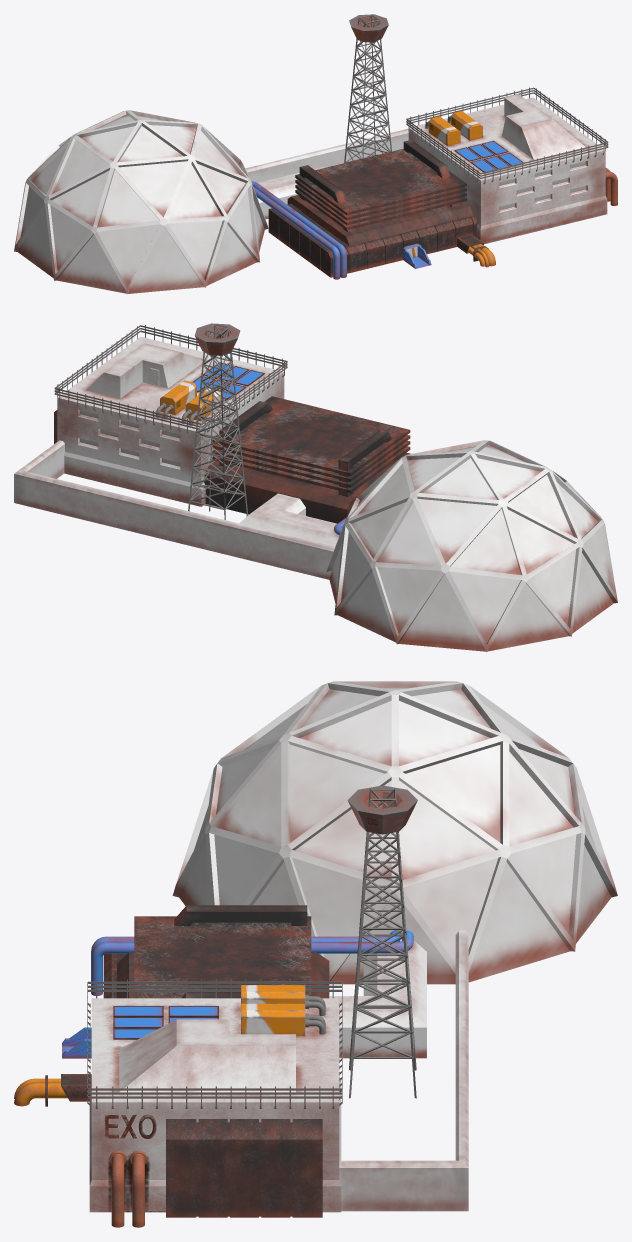
File: struct_HUB.obj
3 views of the same model, one above another, from view 1: azimuth 30°, elevation 25°; view 2: azimuth 150°, elevation 25°; view 3: azimuth 270°, elevation 25° (orthographic). The views are drawn at different scales.
Visible parts, largest first — view 1: HUB; view 2: HUB; view 3: HUB.
Part boxes in pixels (x1,y1,x2,y2): HUB: (14,14,617,294); HUB: (14,323,617,652); HUB: (14,681,617,1227).
Bounding box in the file's own units: 125 × 40.94 × 75.9.
Materials: 26 (26 with a texture image).
